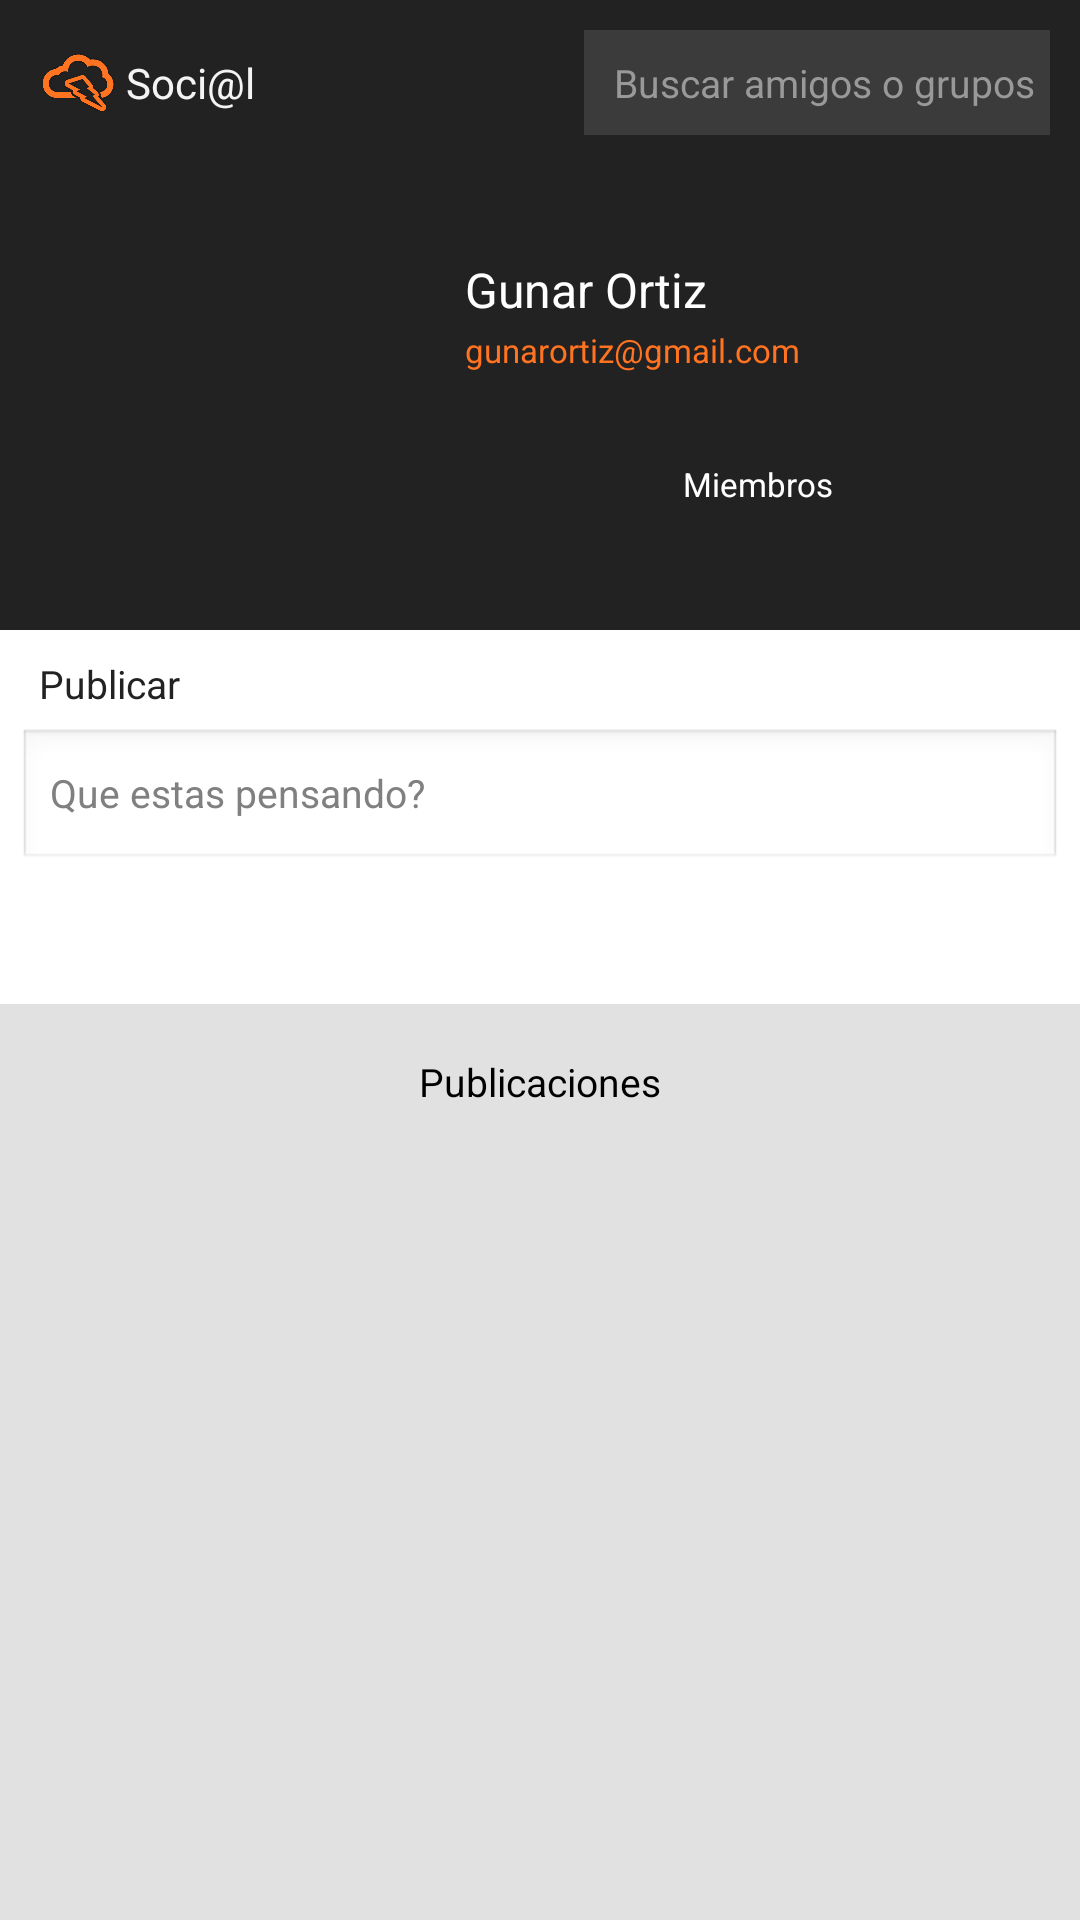

Icon click points for this 1080px x 1920px phone screenshot, format [x,y]:
nube naranja: [78,82]
